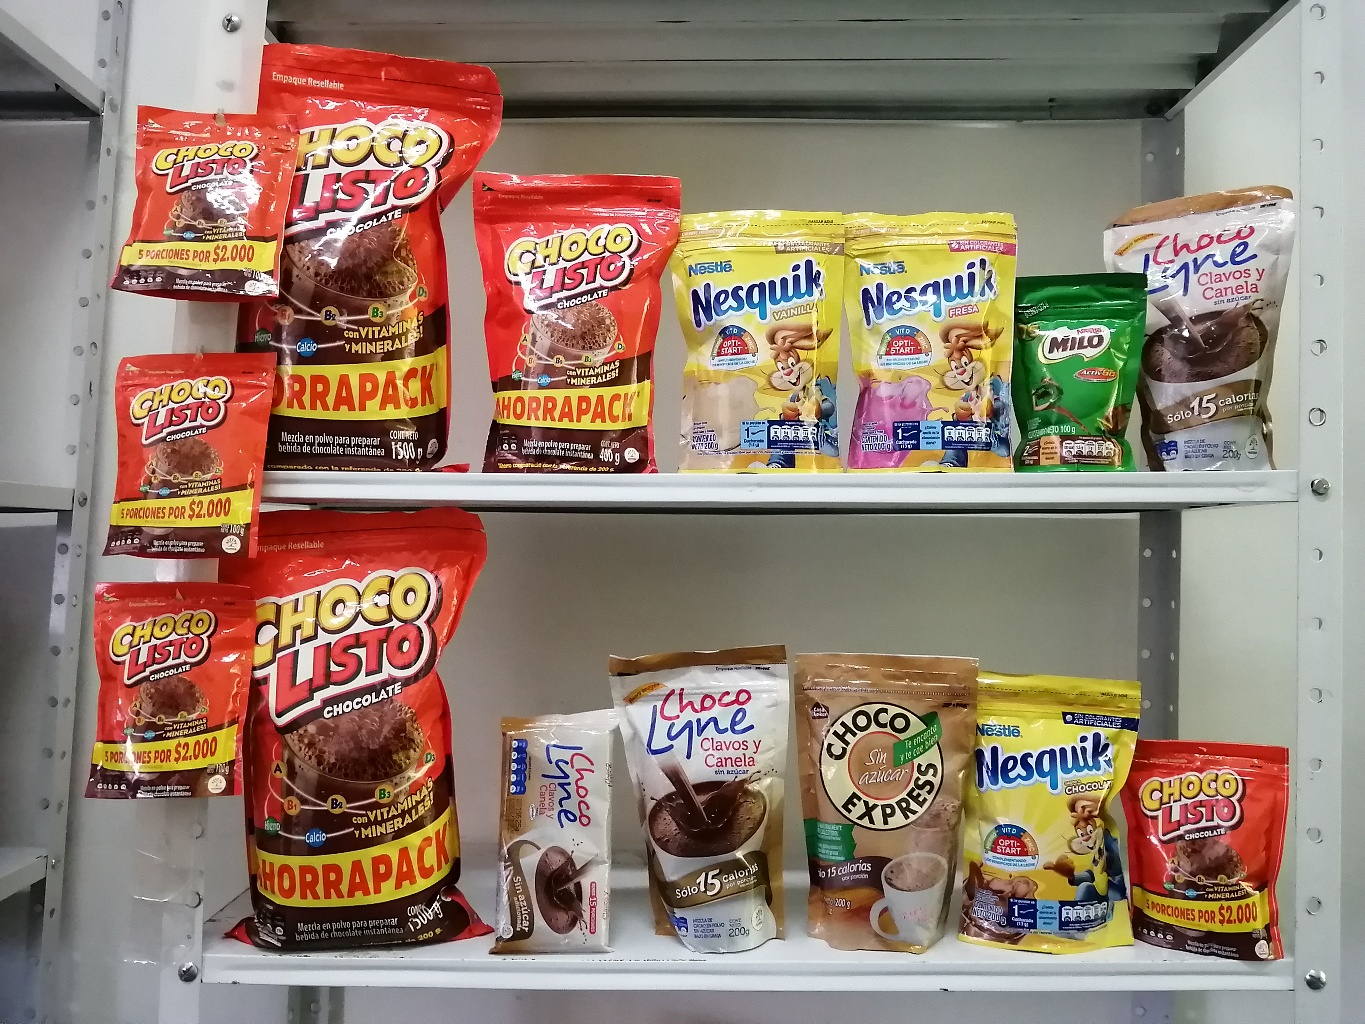COL0170103DYP1,500: (243, 30, 504, 461)
COL0170103DYP10000: (1137, 730, 1293, 954)
COL0170103DYP40000: (458, 154, 677, 480)
COL0170203DYP10000: (1005, 268, 1155, 470)
COL0170303DYP20000: (970, 657, 1146, 942)
COL0170305DYP20000: (841, 199, 1019, 470)
COL0170306DYP20000: (670, 203, 859, 466)
